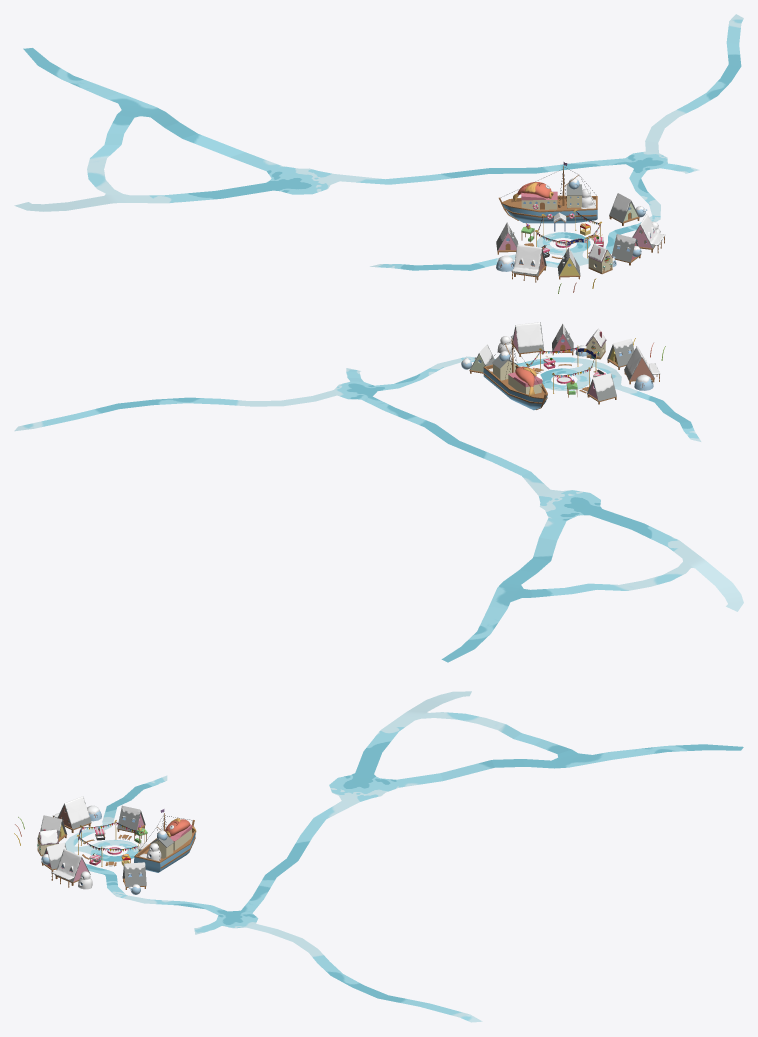
Rendered from Neighborhood_SalmonSettlement_02.fbx.
3 views of the same model, one above another, from view 1: azimuth 30°, elevation 25°; view 2: azimuth 150°, elevation 25°; view 3: azimuth 270°, elevation 25° (orthographic). The views are drawn at different scales.
Parts seen in each view (by area): view 1: Object_Road1, Ship, Building_TriangleHouse, Building_TriangleHouse5, Building_TriangleHouse6, Building_TriangleHouse3, Building_CoffeeShop, Building_TriangleHouse2; view 2: Object_Road1, Ship, Building_TriangleHouse5, Building_TriangleHouse, Building_TriangleHouse4, Building_TriangleHouse2; view 3: Object_Road1, Ship, Building_TriangleHouse, Building_TriangleHouse5, Building_TriangleHouse4, Building_TriangleHouse6.
Part boxes in pixels (box(x1,y1,x2,y2)): Object_Road1: box(14, 14, 743, 270); Ship: box(498, 162, 597, 223); Building_TriangleHouse: box(511, 244, 546, 282); Building_TriangleHouse5: box(632, 214, 665, 253); Building_TriangleHouse6: box(609, 193, 639, 225); Building_TriangleHouse3: box(612, 234, 641, 265); Building_CoffeeShop: box(588, 243, 613, 274); Building_TriangleHouse2: box(557, 247, 580, 279); Object_Road1: box(14, 356, 743, 662); Ship: box(483, 335, 547, 410); Building_TriangleHouse5: box(511, 322, 544, 356); Building_TriangleHouse: box(624, 346, 660, 384); Building_TriangleHouse4: box(587, 373, 616, 404); Building_TriangleHouse2: box(607, 338, 634, 369); Object_Road1: box(65, 691, 743, 1022); Ship: box(134, 809, 195, 872); Building_TriangleHouse: box(53, 796, 91, 832); Building_TriangleHouse5: box(51, 849, 90, 887); Building_TriangleHouse4: box(117, 805, 145, 835); Building_TriangleHouse6: box(122, 862, 146, 889).
Size of the model in its own units: 19011 by 1670 by 17225.
